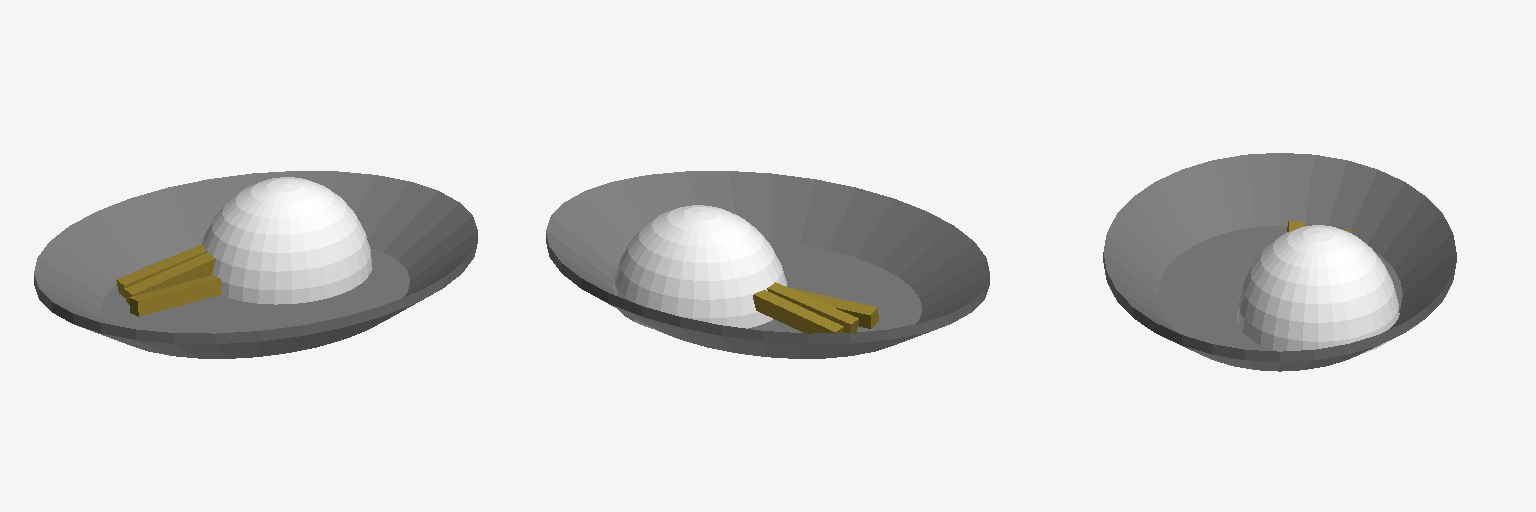
Rendered from rice3_meat1_veg0.obj.
3 views of the same model, side by side, from view 1: azimuth 30°, elevation 25°; view 2: azimuth 150°, elevation 25°; view 3: azimuth 270°, elevation 25° (orthographic).
Parts seen in each view (by area): view 1: Cylinder, Sphere, Cube.002_Cube.003, Cube.001_Cube.002, Cube_Cube.001; view 2: Cylinder, Sphere, Cube_Cube.001, Cube.001_Cube.002, Cube.002_Cube.003; view 3: Cylinder, Sphere.
Boxes of the visible parts, x1=… form: Cylinder: x1=34, y1=171, x2=477, y2=358; Sphere: x1=202, y1=177, x2=371, y2=304; Cube.002_Cube.003: x1=129, y1=275, x2=221, y2=316; Cube.001_Cube.002: x1=124, y1=253, x2=215, y2=303; Cube_Cube.001: x1=116, y1=244, x2=206, y2=297; Cylinder: x1=546, y1=171, x2=989, y2=358; Sphere: x1=614, y1=205, x2=786, y2=330; Cube_Cube.001: x1=753, y1=290, x2=843, y2=333; Cube.001_Cube.002: x1=767, y1=282, x2=858, y2=332; Cube.002_Cube.003: x1=791, y1=288, x2=878, y2=328; Cylinder: x1=1103, y1=153, x2=1456, y2=371; Sphere: x1=1237, y1=225, x2=1399, y2=353.
Size of the model in its own units: 5.75 by 1.25 by 4.31.